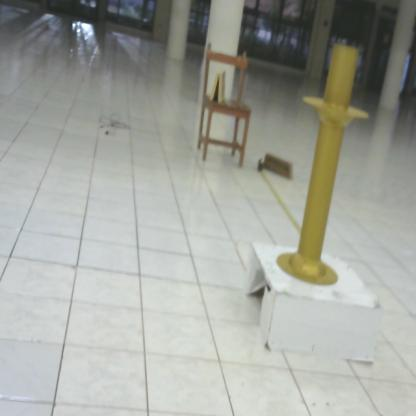pole: (275, 36, 384, 296)
